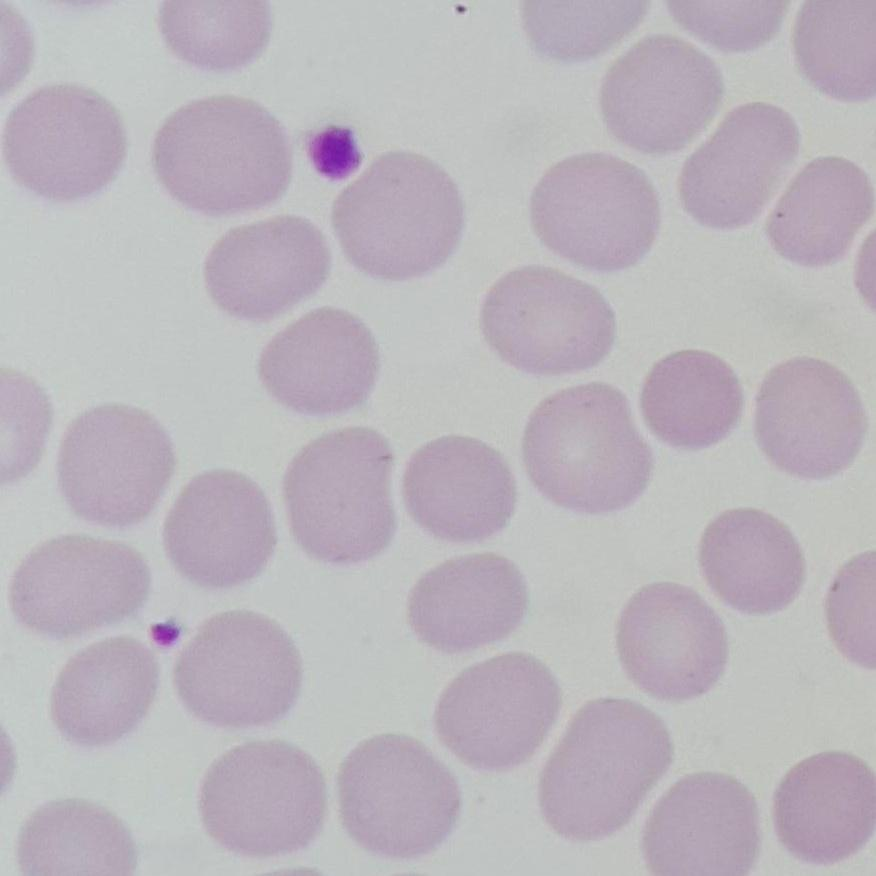Uninfected: (537, 700, 672, 839), (521, 384, 653, 511), (331, 153, 465, 276), (282, 430, 400, 564), (153, 98, 290, 212), (528, 154, 661, 271), (174, 611, 303, 730), (337, 735, 460, 858), (198, 740, 325, 857), (2, 80, 124, 201), (480, 265, 615, 374), (432, 653, 558, 769), (682, 105, 801, 227), (57, 406, 175, 527), (162, 470, 277, 590), (10, 539, 150, 637), (602, 38, 722, 152), (258, 306, 380, 416), (615, 584, 727, 698), (755, 358, 861, 478), (401, 436, 518, 543), (203, 218, 326, 319), (49, 637, 159, 746), (408, 553, 526, 653), (642, 777, 758, 873), (767, 156, 870, 264), (699, 508, 801, 616), (773, 752, 872, 861), (639, 349, 744, 450), (794, 1, 874, 97)
